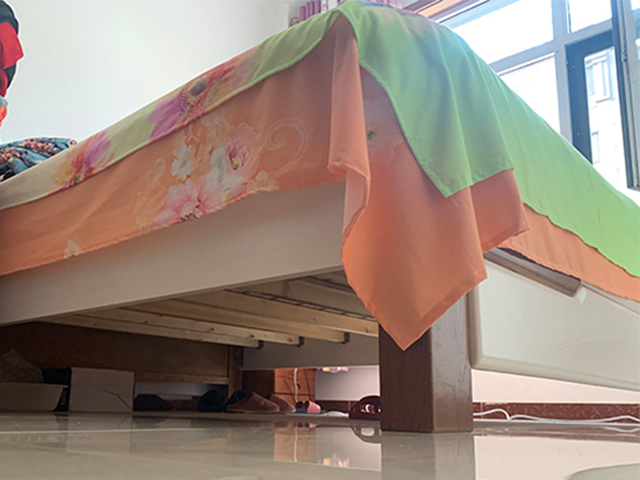bed: (1, 1, 640, 436)
slippers: (200, 388, 279, 415), (349, 395, 382, 421), (294, 396, 319, 417)
wire: (474, 408, 640, 427)
